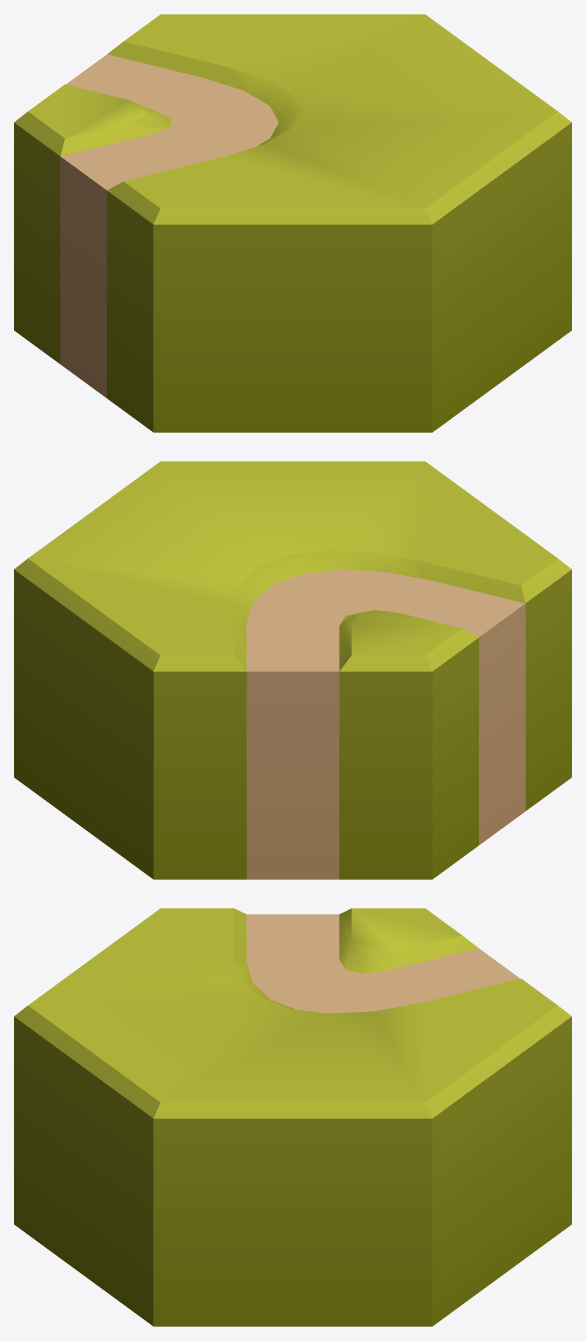
Rendered from kaykit-medieval-hexagon-pack-hex-road-c.glb.
The picture shows the model from 3 angles, top to bottom: view 1: azimuth 30°, elevation 25°; view 2: azimuth 150°, elevation 25°; view 3: azimuth 270°, elevation 25°; orthographic projection.
Parts seen in each view (by area): view 1: hex_road_C; view 2: hex_road_C; view 3: hex_road_C.
Part boxes in pixels (bbox=[...]): hex_road_C: bbox=[14, 14, 571, 432]; hex_road_C: bbox=[14, 461, 571, 879]; hex_road_C: bbox=[14, 908, 571, 1326].
Bounding box in the file's own units: 2 × 1 × 2.31.
Materials: 1 (1 with a texture image).
